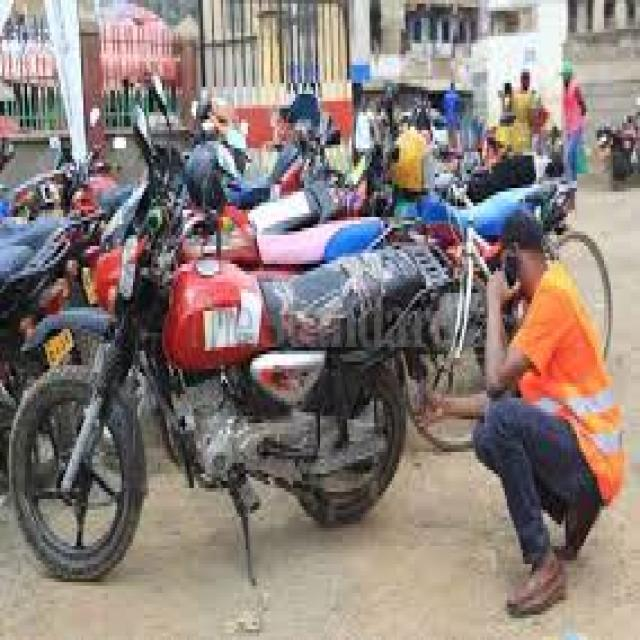bodaboda: (0, 61, 460, 640)
